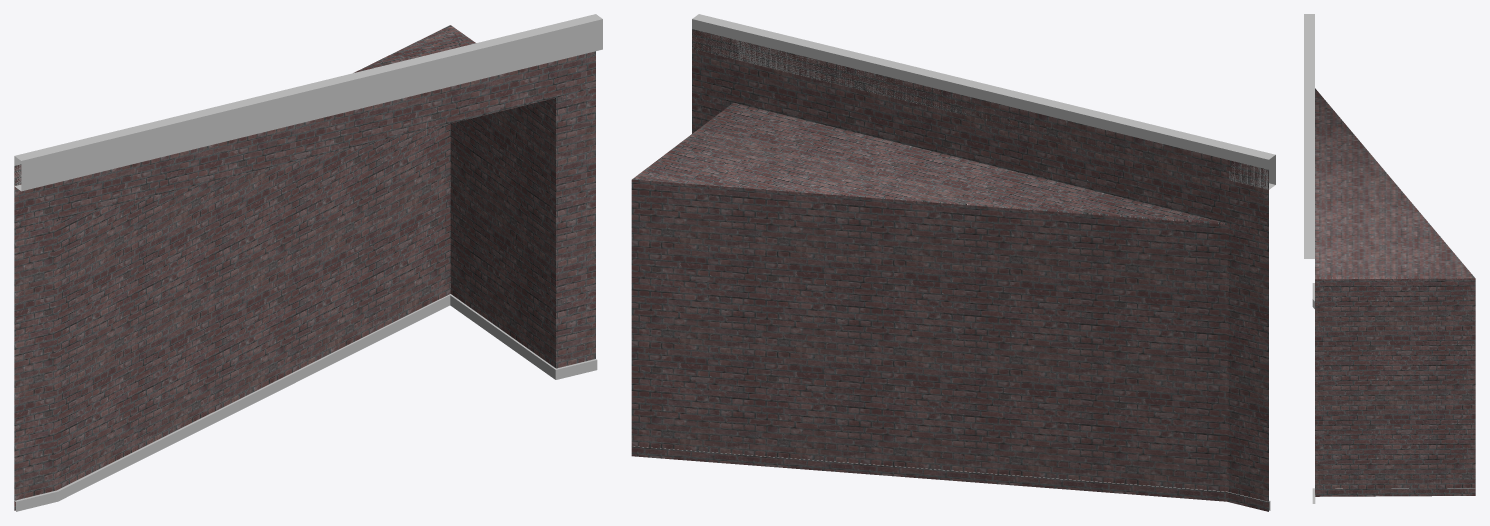
The model's file is Wall_A_Brick_TriangleIn_6x.FBX.
The picture shows the model from 3 angles, left to right: view 1: azimuth 30°, elevation 25°; view 2: azimuth 150°, elevation 25°; view 3: azimuth 270°, elevation 25°; orthographic projection. The views are drawn at different scales.
Parts seen in each view (by area): view 1: Wall_A_Brick_TriangleIn_6x; view 2: Wall_A_Brick_TriangleIn_6x; view 3: Wall_A_Brick_TriangleIn_6x.
Part boxes in pixels (x1,y1,x2,y2): Wall_A_Brick_TriangleIn_6x: [14, 14, 602, 511]; Wall_A_Brick_TriangleIn_6x: [631, 14, 1275, 511]; Wall_A_Brick_TriangleIn_6x: [1304, 14, 1475, 503].
Bounding box in the file's own units: 600 × 350 × 197.
